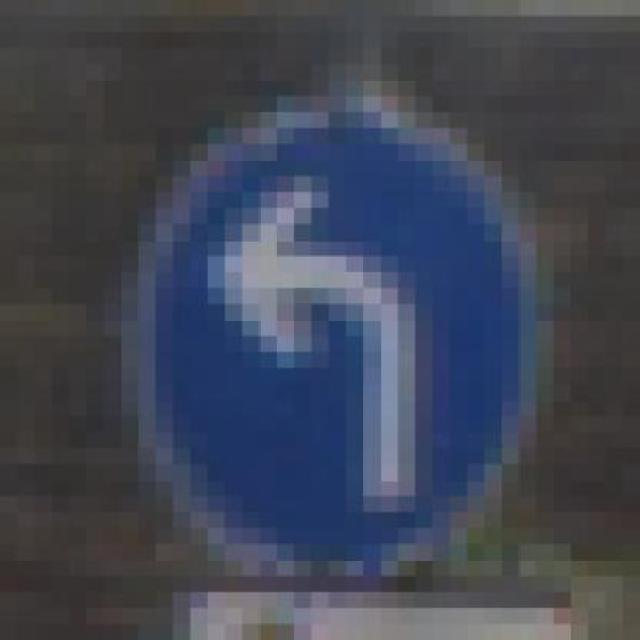Turn left ahead: (125, 63, 557, 591)
